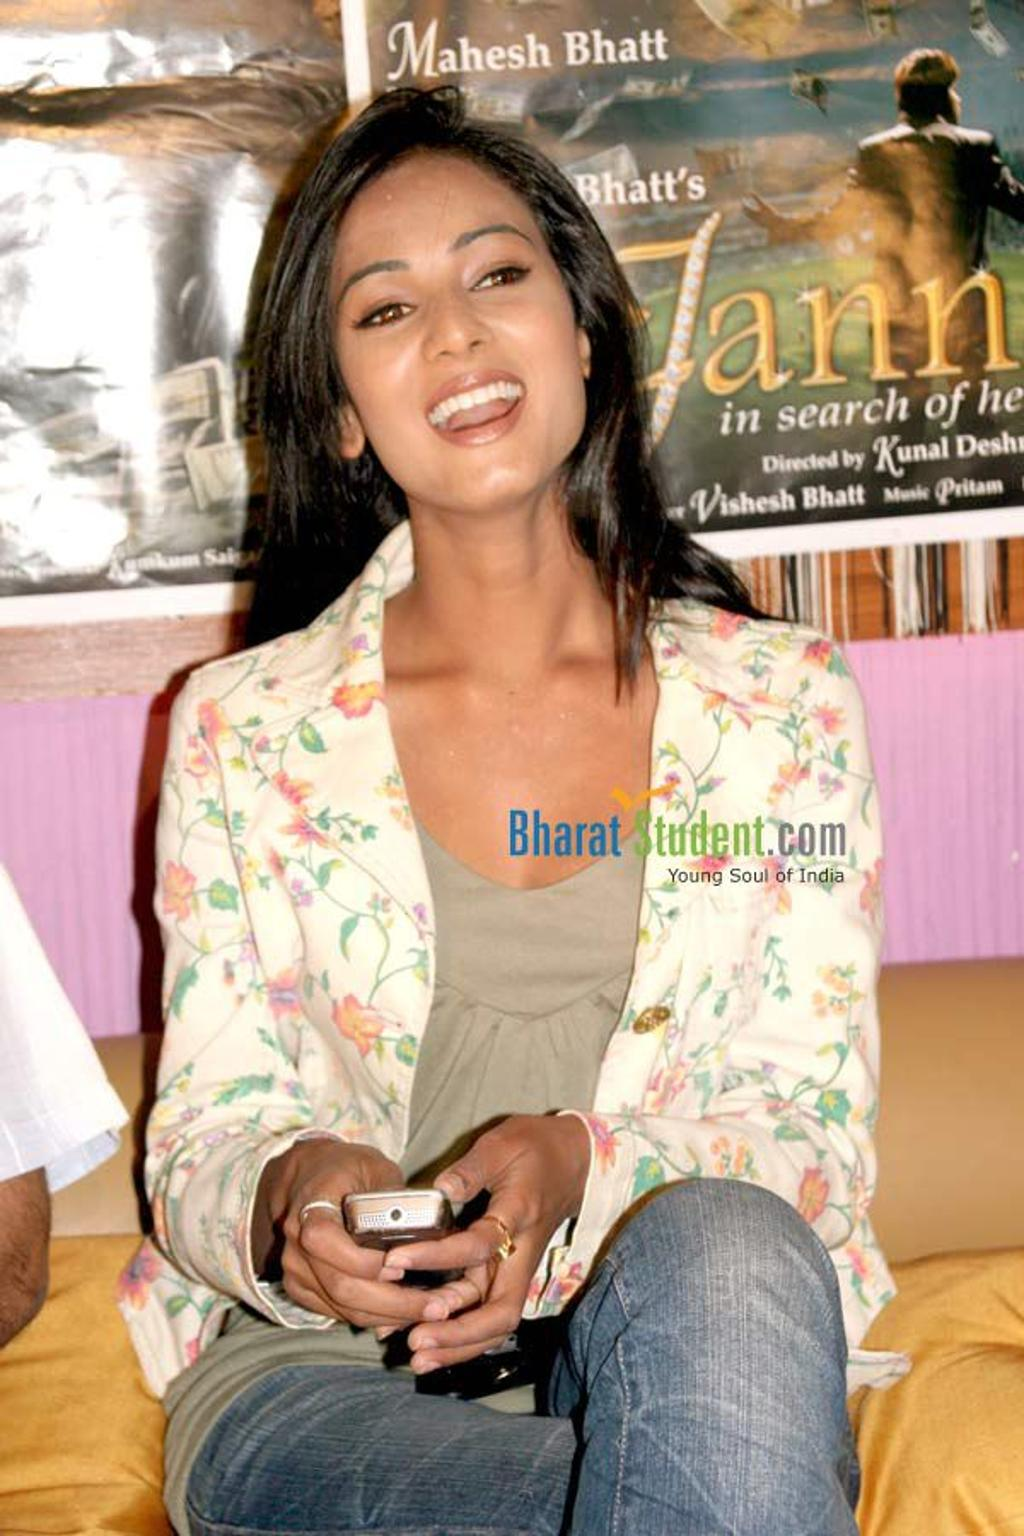face: (334, 154, 583, 502)
